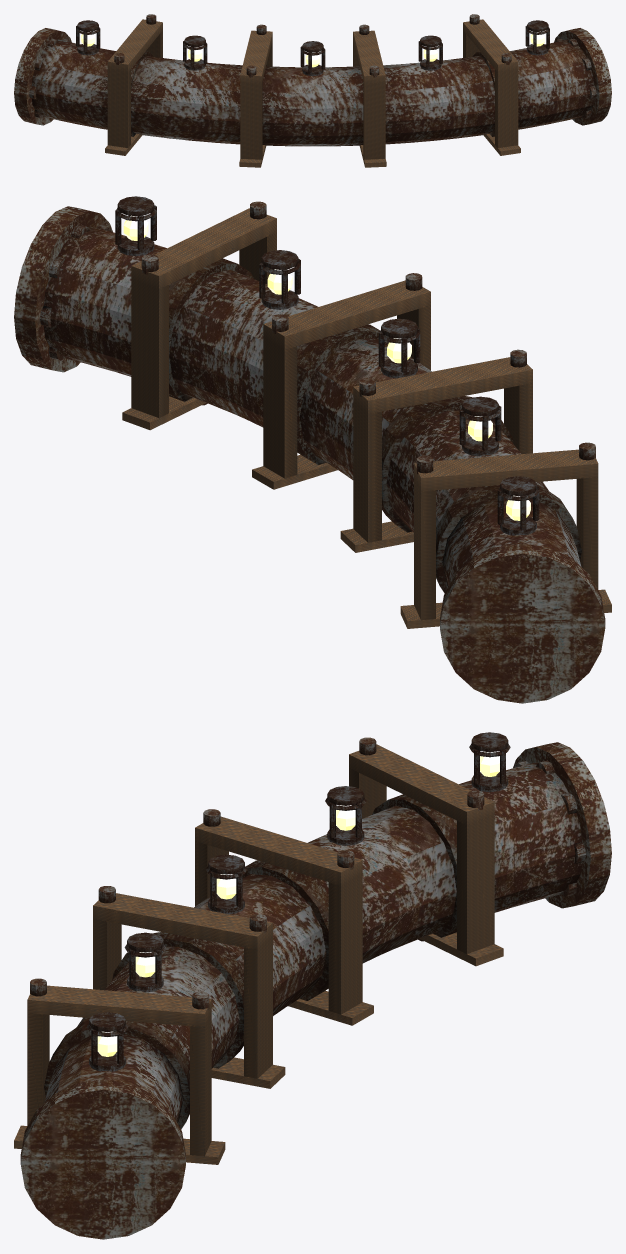
File: pipe_curve_gentle.glb
The picture shows the model from 3 angles, top to bottom: view 1: azimuth 30°, elevation 25°; view 2: azimuth 150°, elevation 25°; view 3: azimuth 270°, elevation 25°; orthographic projection. The views are drawn at different scales.
Visible parts, largest first — view 1: PC_Pipe, PC_Brackets, PC_Lamps_Frame, PC_Flange_E_disc, PC_Flange_NW_disc, PC_BracketBolts, PC_Bolts, PC_Bands; view 2: PC_Brackets, PC_Pipe, PC_Flange_NW_disc, PC_Lamps_Frame, PC_Bands, PC_Flange_E_disc, PC_BracketBolts, PC_Bolts; view 3: PC_Brackets, PC_Pipe, PC_Flange_E_disc, PC_Bands, PC_Lamps_Frame, PC_Flange_NW_disc, PC_BracketBolts, PC_Bolts.
Part boxes in pixels (x1=…): PC_Pipe: x1=31, y1=39, x2=594, y2=146; PC_Brackets: x1=105, y1=19, x2=520, y2=167; PC_Lamps_Frame: x1=76, y1=20, x2=549, y2=76; PC_Flange_E_disc: x1=554, y1=28, x2=611, y2=125; PC_Flange_NW_disc: x1=14, y1=28, x2=71, y2=125; PC_BracketBolts: x1=114, y1=14, x2=511, y2=77; PC_Bolts: x1=29, y1=38, x2=596, y2=118; PC_Bands: x1=131, y1=51, x2=494, y2=136; PC_Brackets: x1=122, y1=208, x2=611, y2=628; PC_Pipe: x1=44, y1=226, x2=581, y2=587; PC_Flange_NW_disc: x1=440, y1=543, x2=605, y2=703; PC_Lamps_Frame: x1=115, y1=196, x2=539, y2=535; PC_Bands: x1=169, y1=258, x2=581, y2=593; PC_Flange_E_disc: x1=14, y1=206, x2=112, y2=372; PC_BracketBolts: x1=141, y1=201, x2=595, y2=473; PC_Bolts: x1=40, y1=224, x2=111, y2=360; PC_Brackets: x1=14, y1=744, x2=503, y2=1164; PC_Pipe: x1=44, y1=762, x2=581, y2=1123; PC_Flange_E_disc: x1=20, y1=1079, x2=185, y2=1239; PC_Bands: x1=44, y1=794, x2=456, y2=1129; PC_Lamps_Frame: x1=87, y1=732, x2=510, y2=1071; PC_Flange_NW_disc: x1=513, y1=742, x2=611, y2=908; PC_BracketBolts: x1=30, y1=737, x2=484, y2=1010; PC_Bolts: x1=514, y1=760, x2=585, y2=896.
Bounding box in the file's own units: 1.44 × 0.323 × 0.9765.
Materials: 6 (5 with a texture image).
